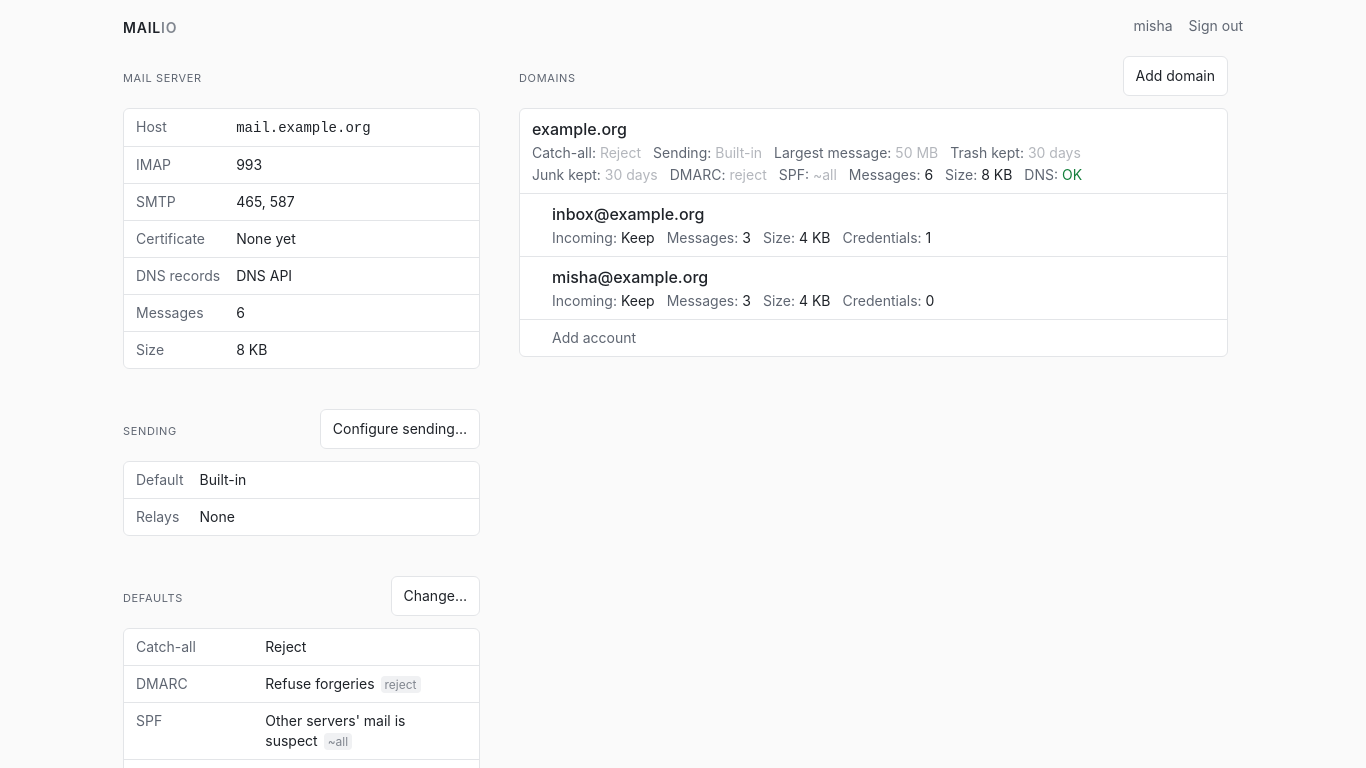
Test: an account sends as another, chosen with the relays, and its row says so
This screenshot has width=1366, height=768.
Step 1. Click the button "inbox@example.org" → [628, 214], box [520,194,1227,256]
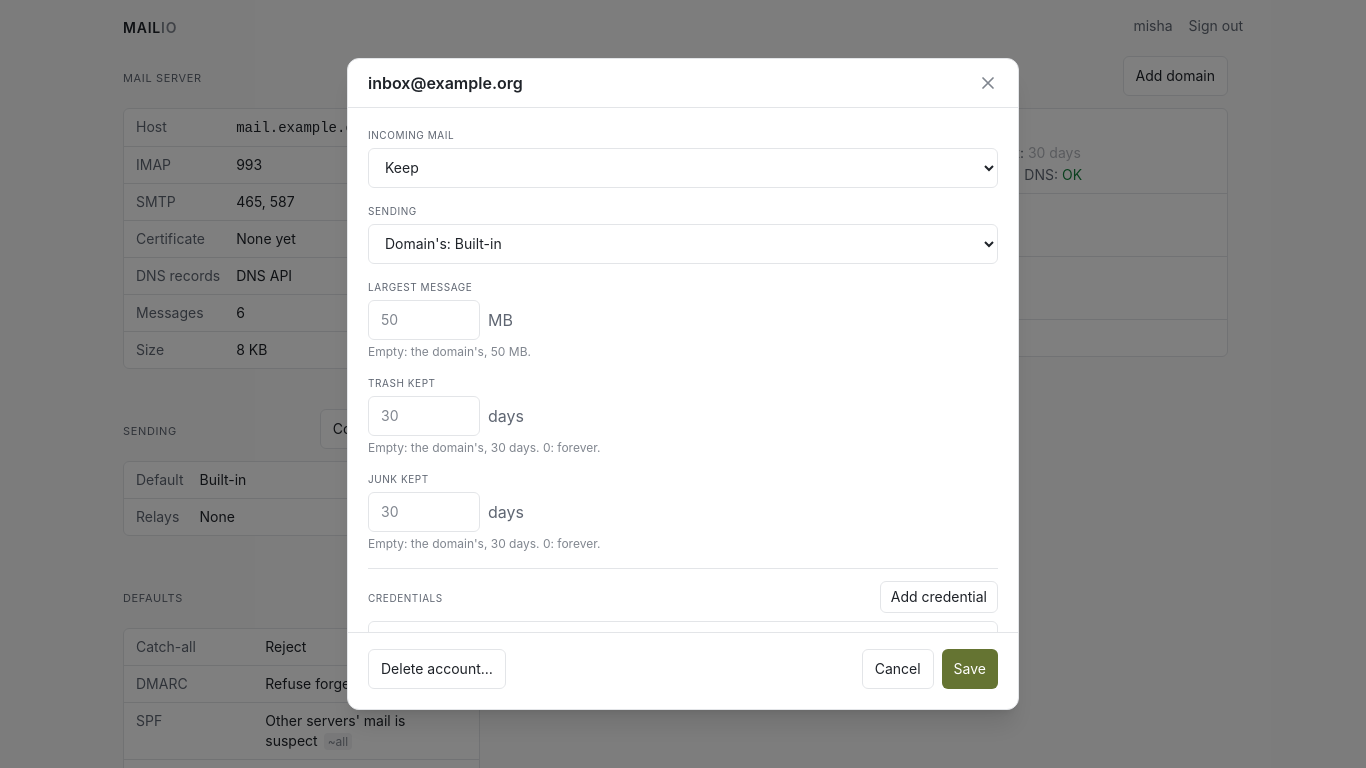
Step 2. Select "misha@example.org" in the dropdown labelled "Sending" → [683, 244], box [368,224,998,264]
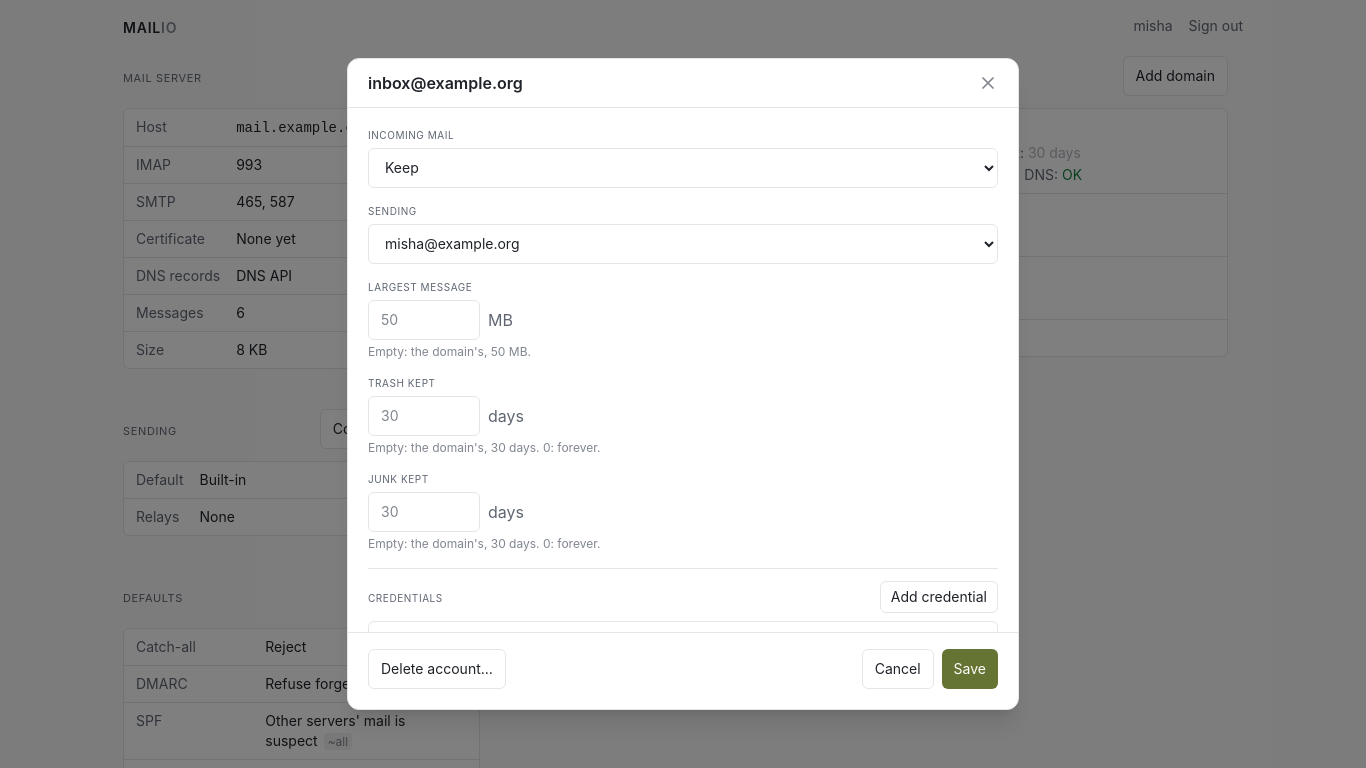
Step 3. Click the button "Save" → [970, 669], box [942,649,998,689]
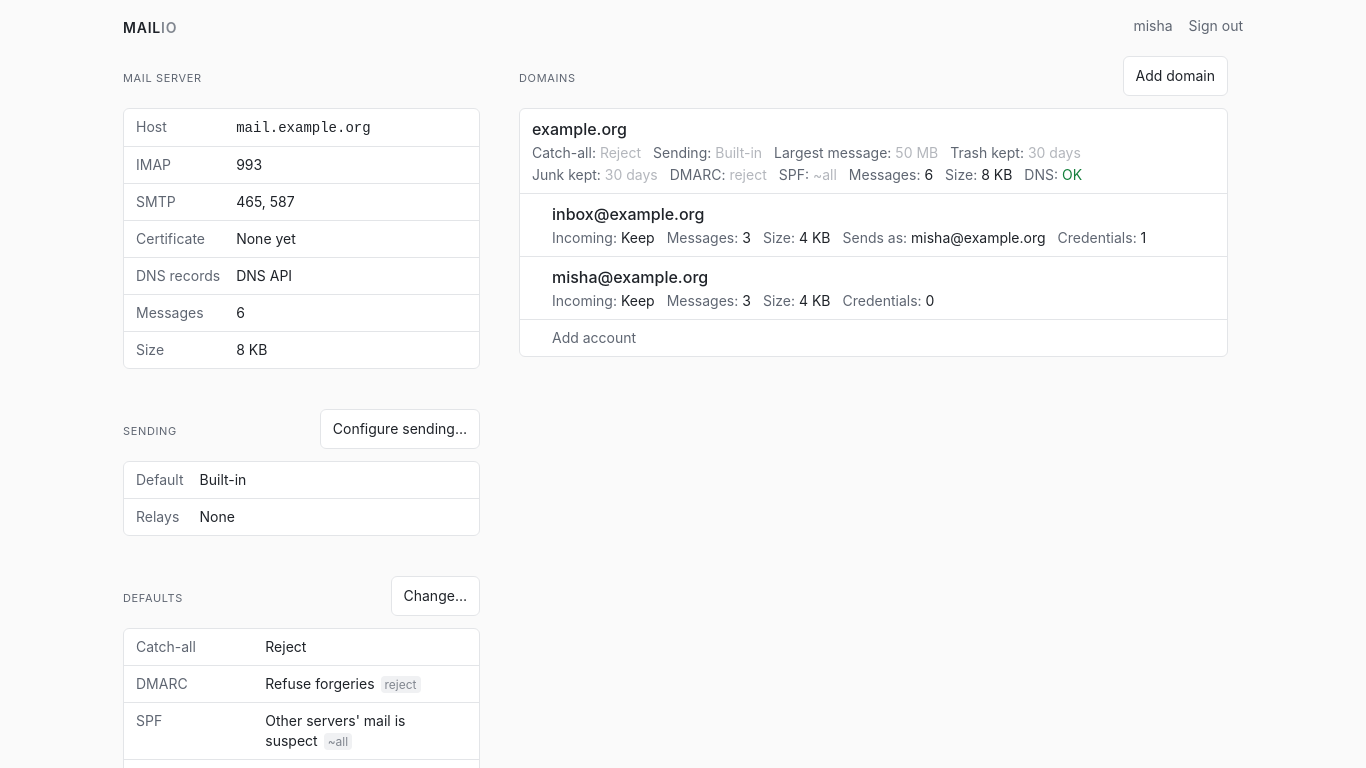
Check: the button that starts with "inbox@example.org" is shown, box [520,194,1227,256]
